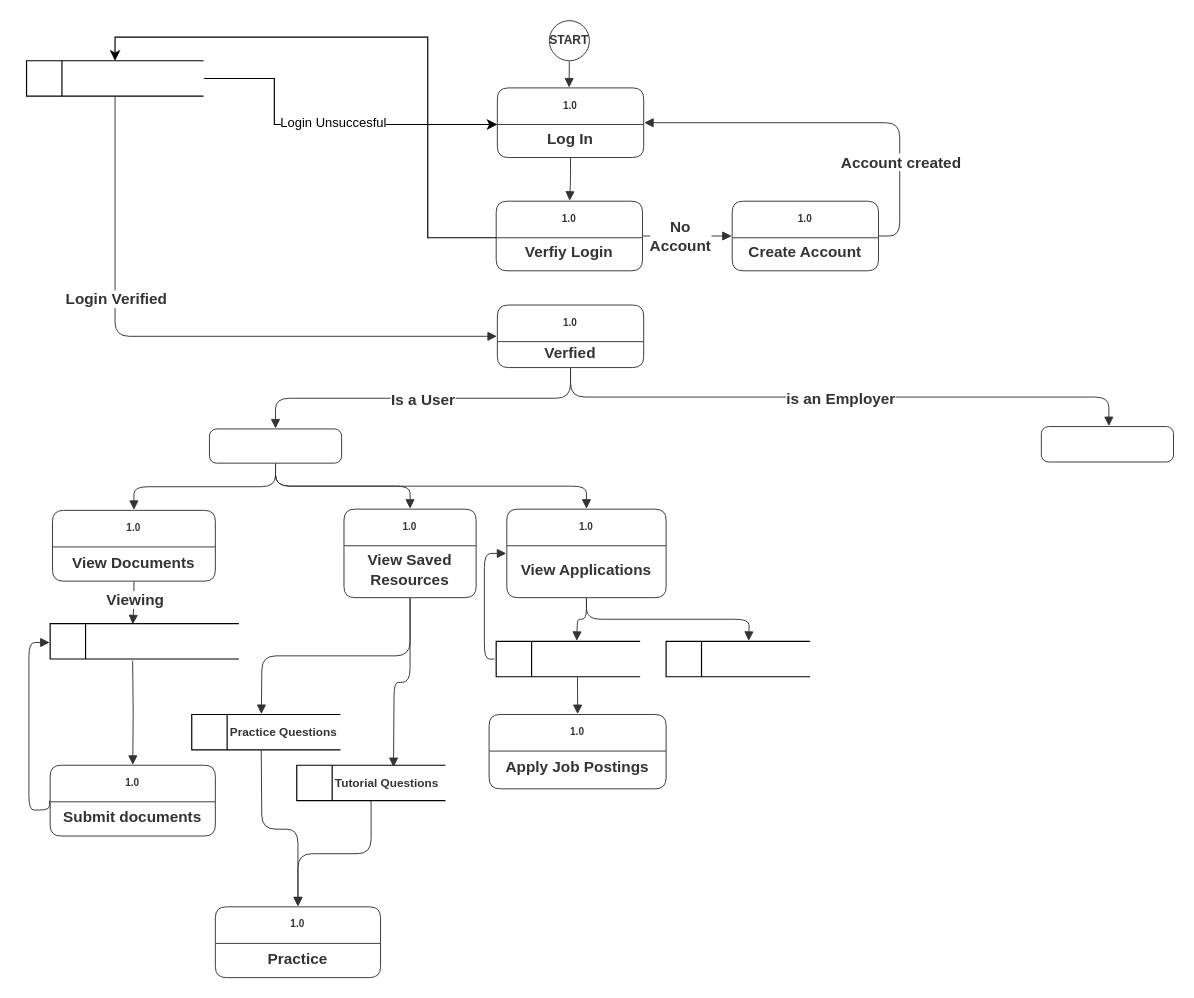
The diagram is 1194 pixels wide and 998 high, and some of its shapes have lost their labels. The centre of each missing label's shape, as x and y in pixels:
"Company" belongs at point (1106, 444).
"InComplete Job Applications" belongs at point (737, 658).
"Job Applications Submitted" belongs at point (567, 658).
"Resume and Cover Letter" belongs at point (144, 640).
"User" belongs at point (274, 445).
"User Name & Password" belongs at point (114, 78).
